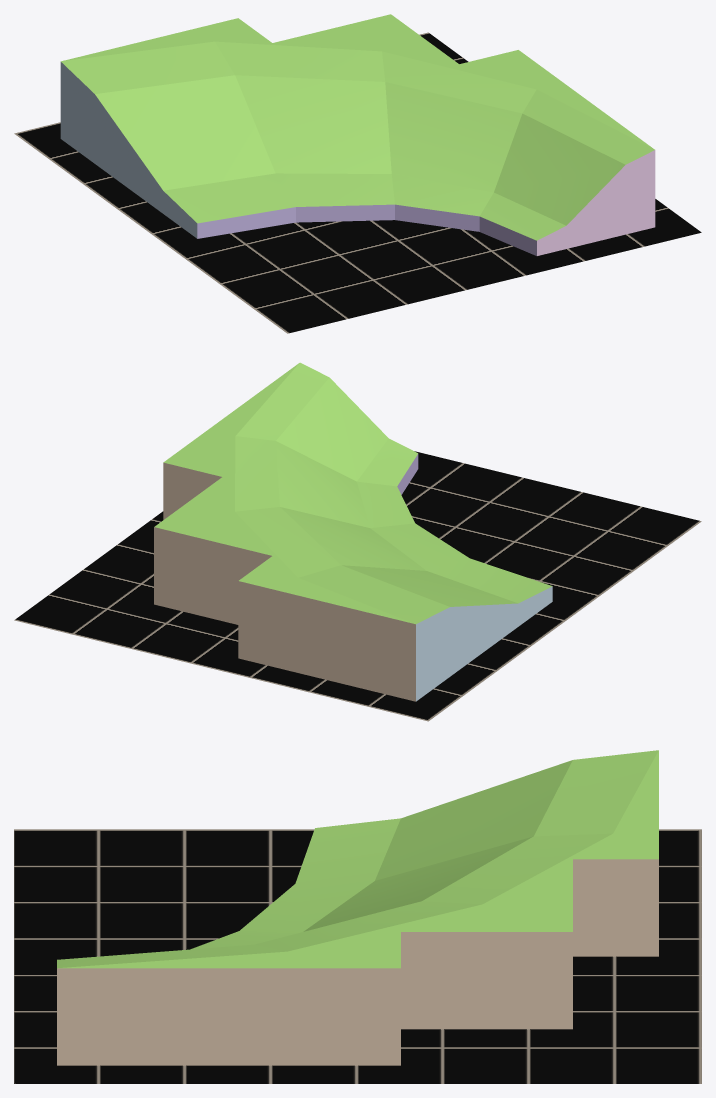
Rendered from Grass_Hill_Grade_Transition_Curve_Inner_6x7.glb.
3 renders of one model, top to bottom at view 1: azimuth 30°, elevation 25°; view 2: azimuth 150°, elevation 25°; view 3: azimuth 270°, elevation 25°, orthographic. The views are drawn at different scales.
Visible parts, largest first — view 1: Grass_Hill_Grade_Transition_Curve_Inner_6x7, Floor; view 2: Grass_Hill_Grade_Transition_Curve_Inner_6x7, Floor; view 3: Grass_Hill_Grade_Transition_Curve_Inner_6x7, Floor.
Part boxes in pixels (left/top/right/bottom): Grass_Hill_Grade_Transition_Curve_Inner_6x7: left=60, top=14, right=655, bottom=255; Floor: left=14, top=32, right=701, bottom=333; Grass_Hill_Grade_Transition_Curve_Inner_6x7: left=154, top=362, right=552, bottom=701; Floor: left=14, top=451, right=701, bottom=721; Grass_Hill_Grade_Transition_Curve_Inner_6x7: left=57, top=750, right=658, bottom=1065; Floor: left=14, top=829, right=701, bottom=1083.
Size of the model in its own units: 700 by 125 by 800.
Materials: 7 (1 with a texture image).
